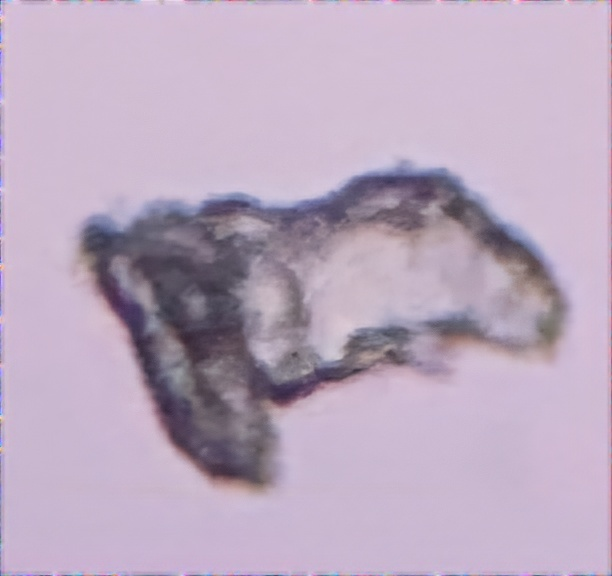microplastic: (65, 152, 589, 499)
